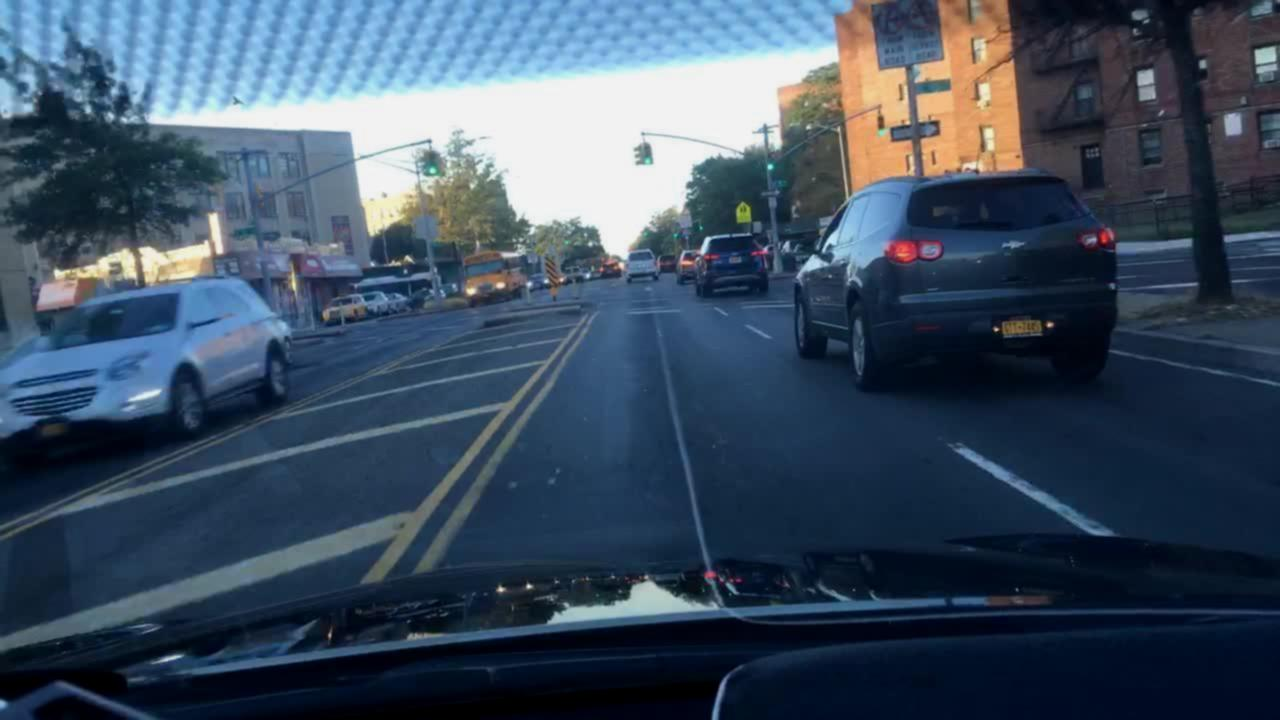chevrolet: (994, 227, 1033, 262)
